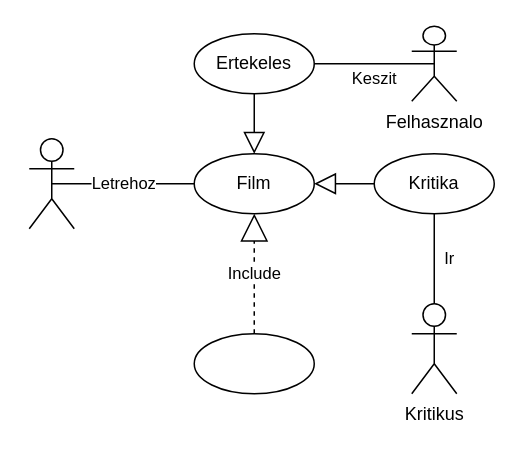
Image size: 521x452. Some labels were removed from this diagram. The shapes that lost their labels are listed below. From the top down, each one's centre as x and y in pixels, then its label:
At [51,183]: "Admin".
At [253,363]: "Szinesz".
